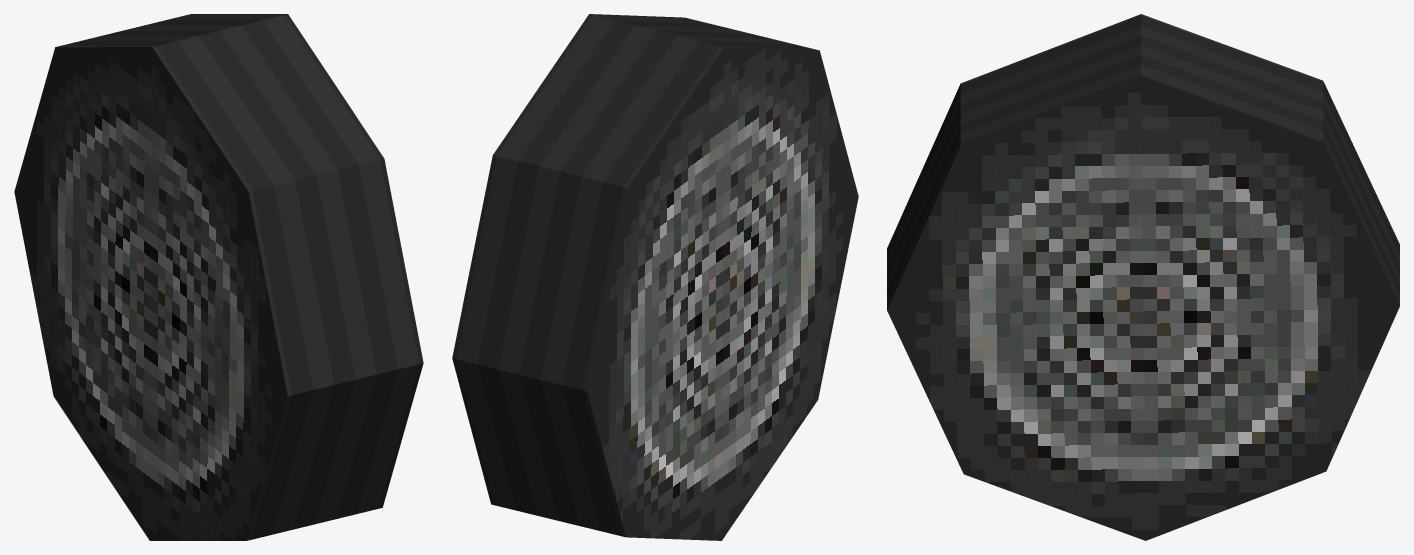
File: car_wheel.glb
3 views of the same model, side by side, from view 1: azimuth 30°, elevation 25°; view 2: azimuth 150°, elevation 25°; view 3: azimuth 270°, elevation 25° (orthographic). The views are drawn at different scales.
Parts seen in each view (by area): view 1: Car3; view 2: Car3; view 3: Car3.
Boxes of the visible parts, x1,y1,x2,y2 form: Car3: (14,14,423,540); Car3: (452,14,858,540); Car3: (887,14,1399,540).
Bounding box in the file's own units: 0.2657 × 0.926 × 0.926.
Materials: 1 (1 with a texture image).
